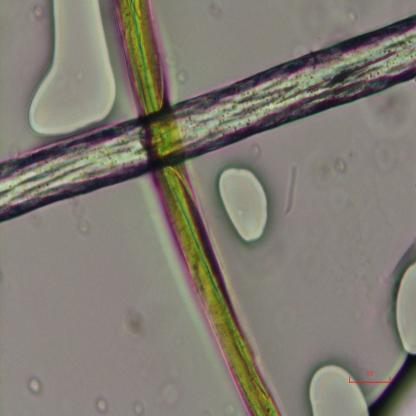Air bubble: (25, 0, 119, 136), (217, 162, 272, 244), (307, 362, 374, 415), (394, 258, 416, 360)
Background material: (367, 352, 416, 416), (364, 92, 410, 140), (366, 144, 398, 180), (165, 48, 190, 85), (285, 163, 299, 220), (125, 304, 146, 340), (73, 204, 90, 235), (24, 374, 44, 395), (93, 394, 110, 414), (334, 157, 347, 178), (133, 399, 146, 416)
Microfibre: (0, 12, 416, 225), (114, 0, 282, 416)
